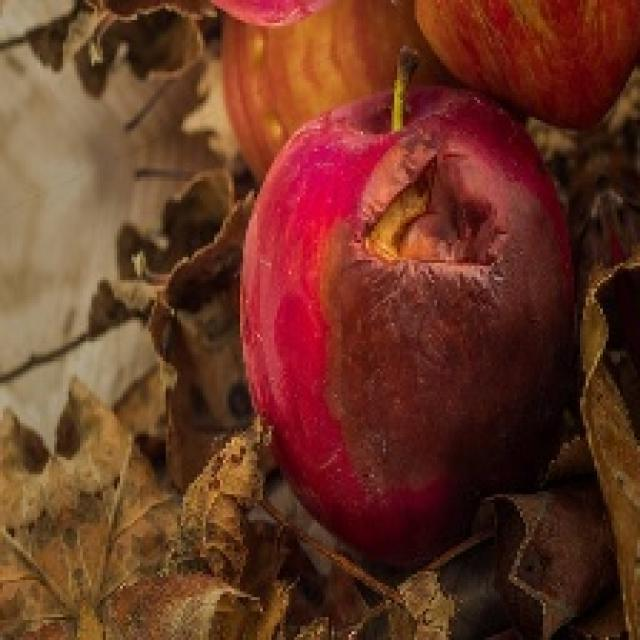rotten_apple: (250, 88, 574, 539)
